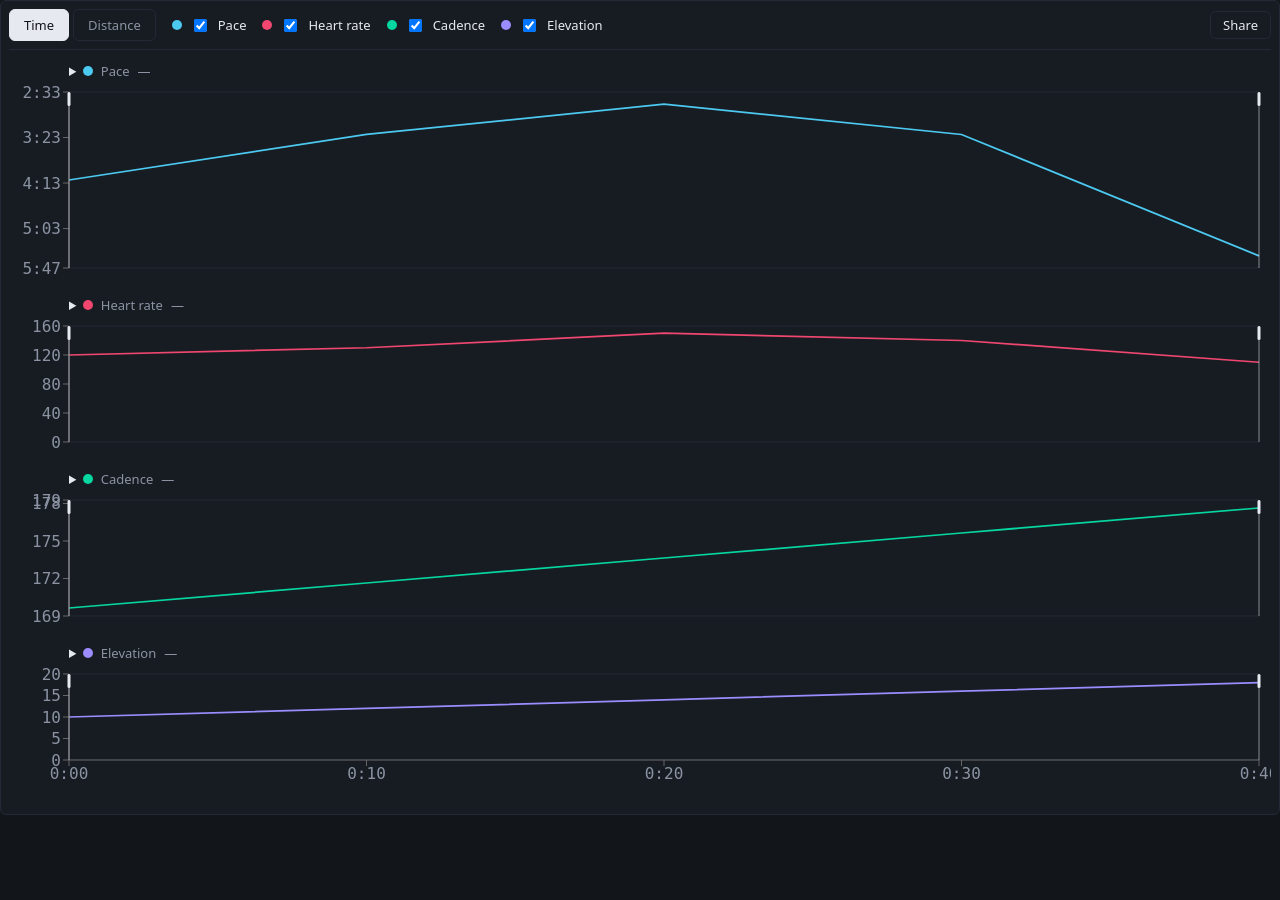
Scenario: ChartToolbar › re-checking a metric toggle restores its panel
Expected: the element with class "metric-panel" showing "Pace" is shown, [9, 62, 1271, 284]
Click the checkbox labelled "Cadence": {"x": 415, "y": 25} [409, 18, 422, 32]
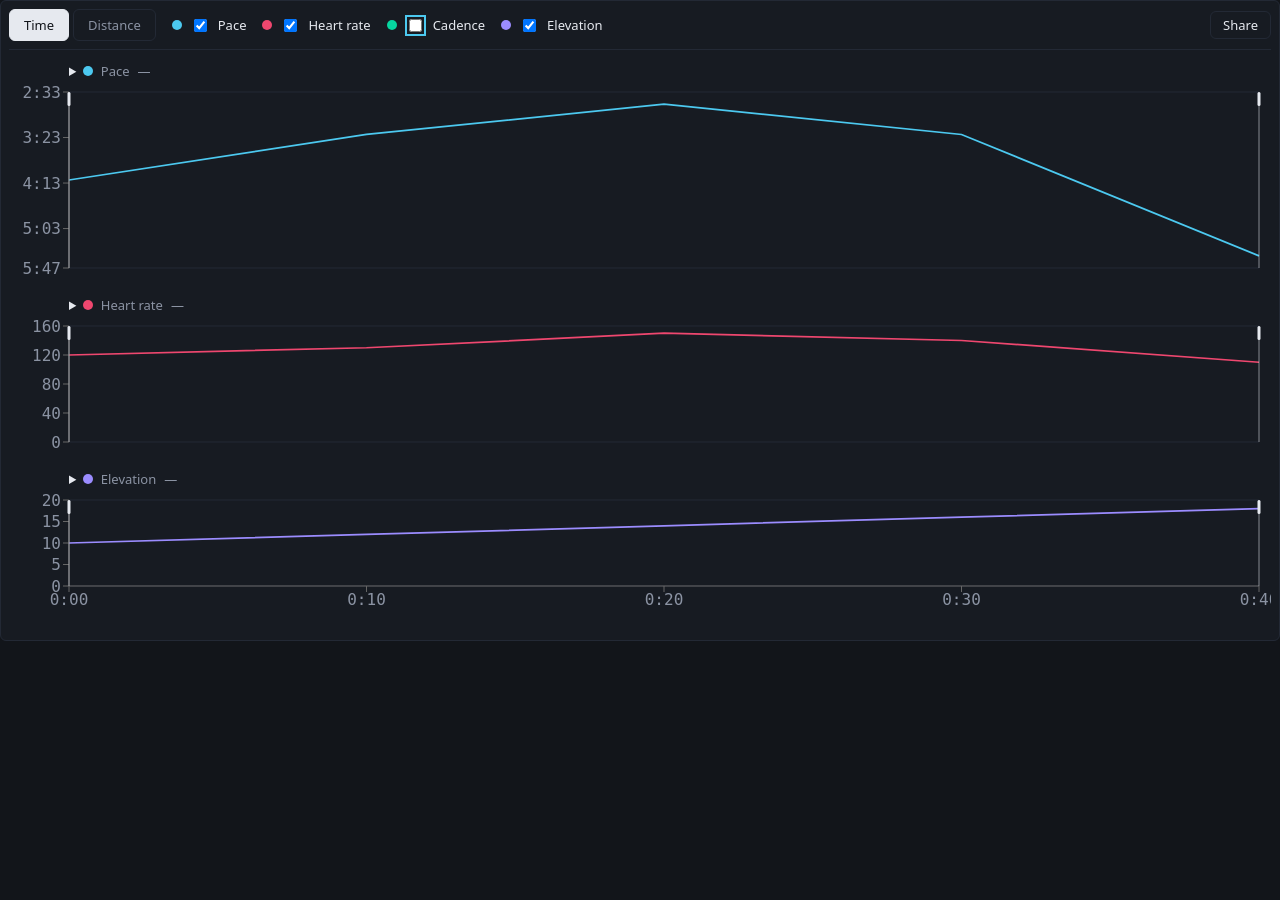
Expected: the number of elements with class "metric-panel" is 3, [9, 62, 1271, 284]; [9, 296, 1271, 458]; [9, 470, 1271, 632]
Click the checkbox labelled "Cadence": {"x": 415, "y": 25} [409, 18, 422, 32]
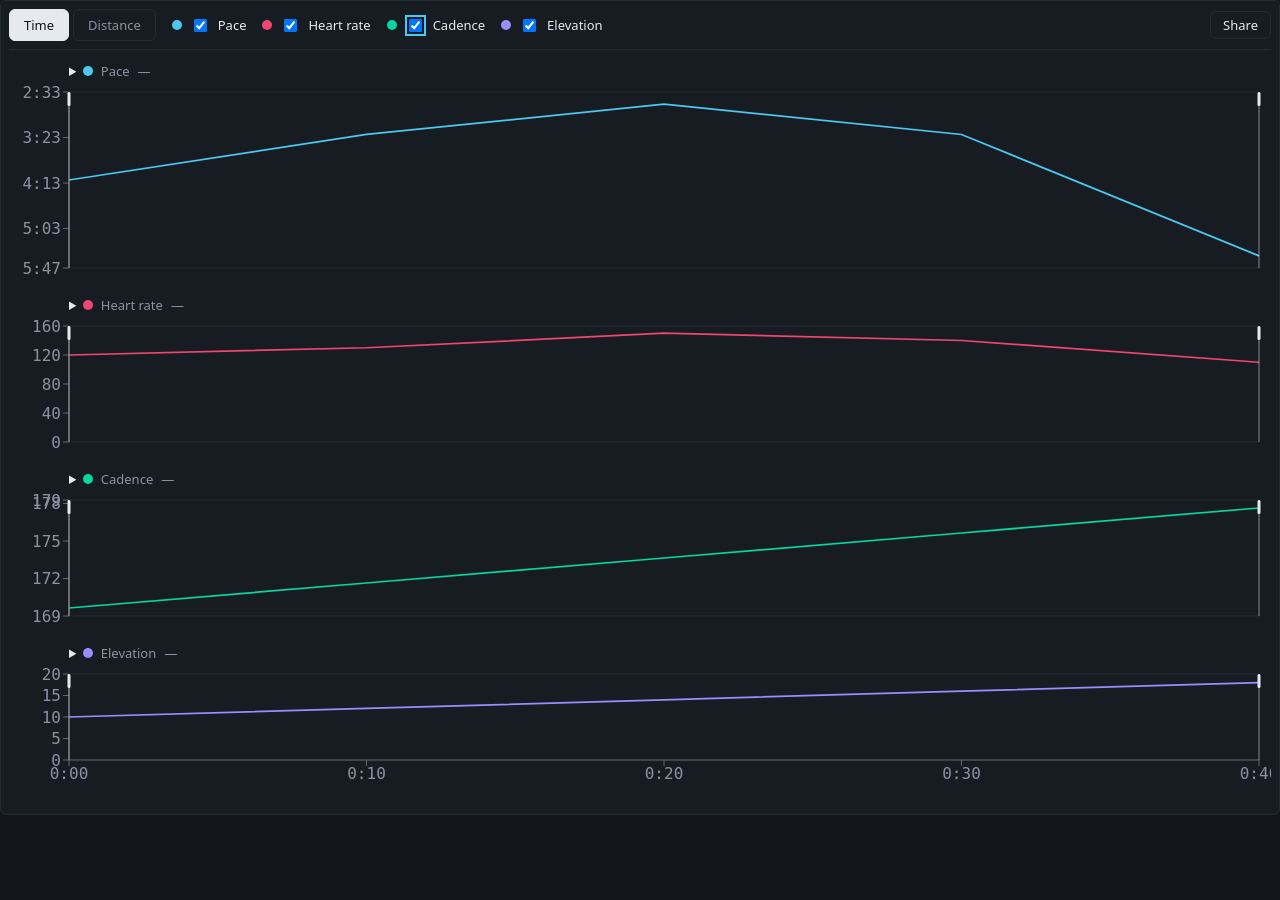
Expected: the number of elements with class "metric-panel" is 4, [9, 62, 1271, 284]; [9, 296, 1271, 458]; [9, 470, 1271, 632]; [9, 644, 1271, 806]
Expected: the element with class "metric-panel" showing "Cadence" is shown, [9, 470, 1271, 632]
